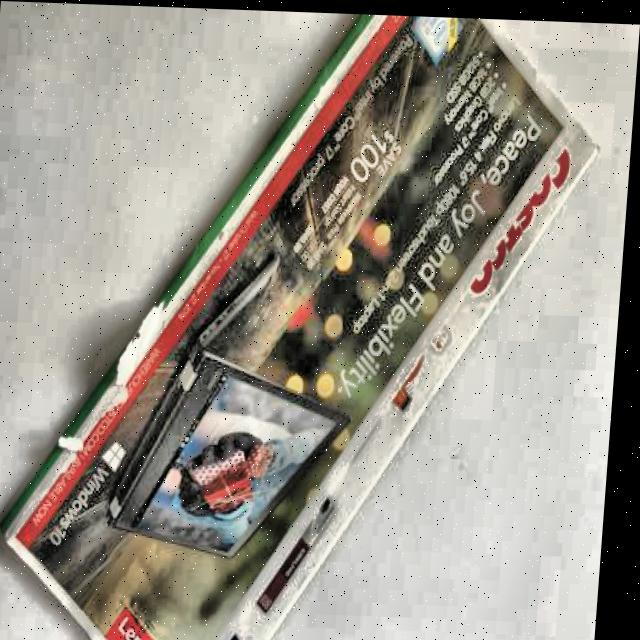paper: (0, 1, 614, 640)
